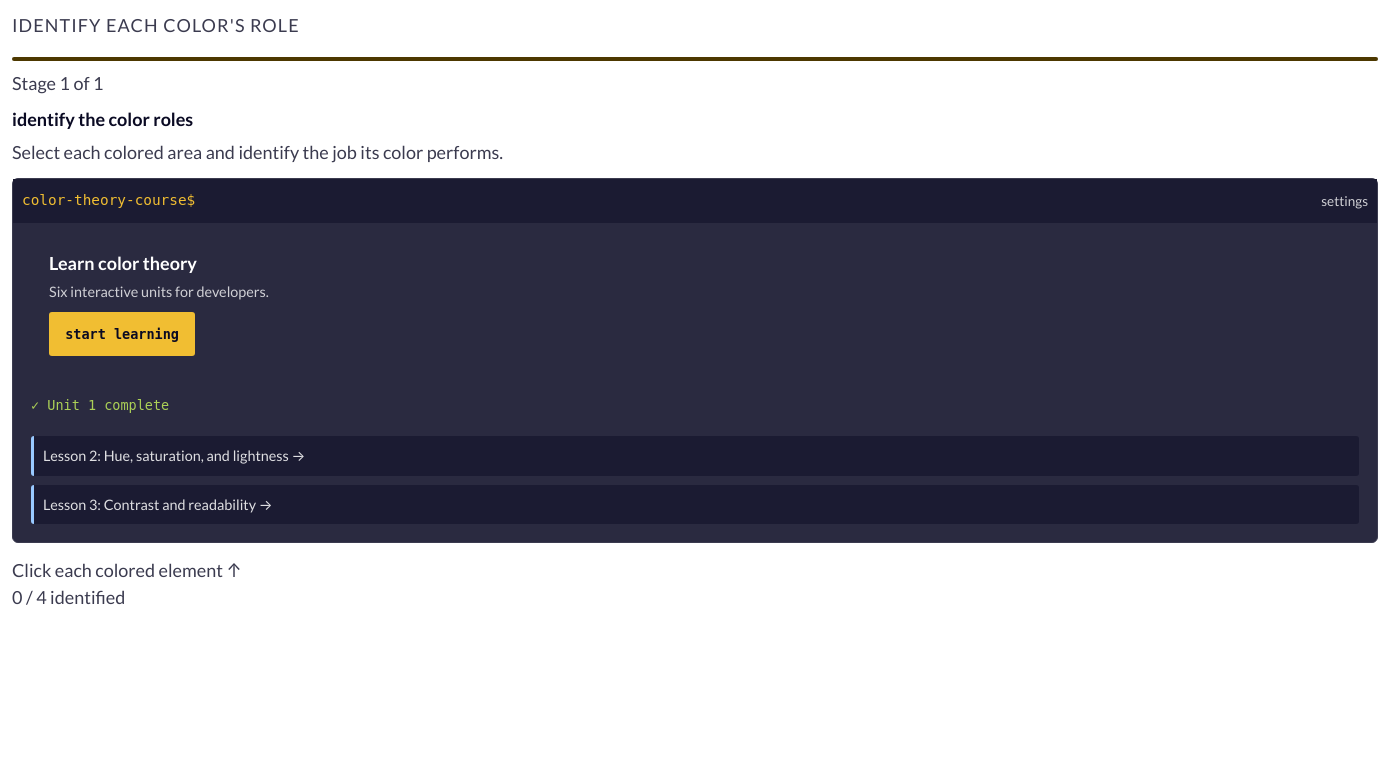
Test: BeforeAfterTool color-role keyboard activation › opens a color-role question with Enter and Space, and prevents Space scrolling
This screenshot has width=1378, height=780.
Press Enter in the button with aria-label "Click to identify what the nav bar color is doing", box [13,179,1377,223]
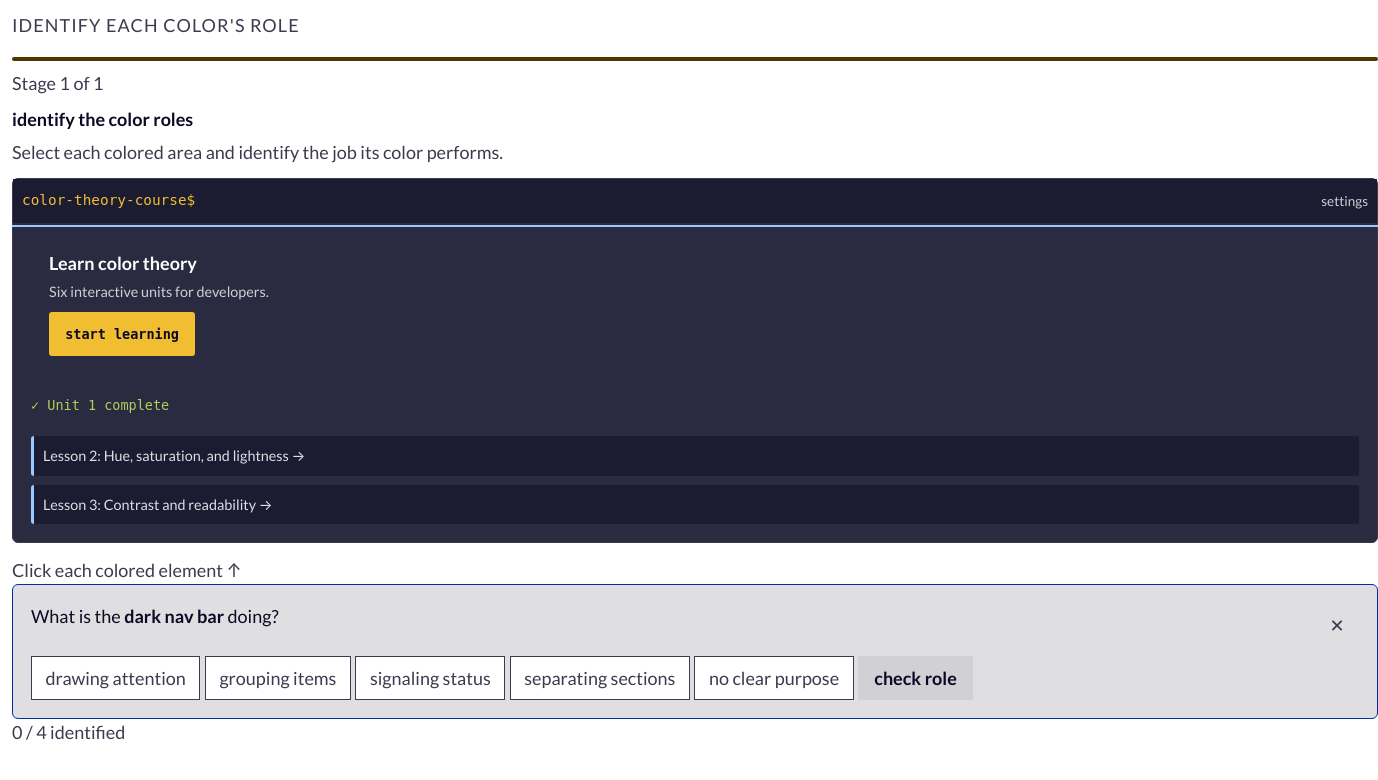
Expected: the text "dark nav bar" is shown, [124,605,224,627]
Click the button named "Close" at coordinates (1337, 625), box [1315,603,1359,647]
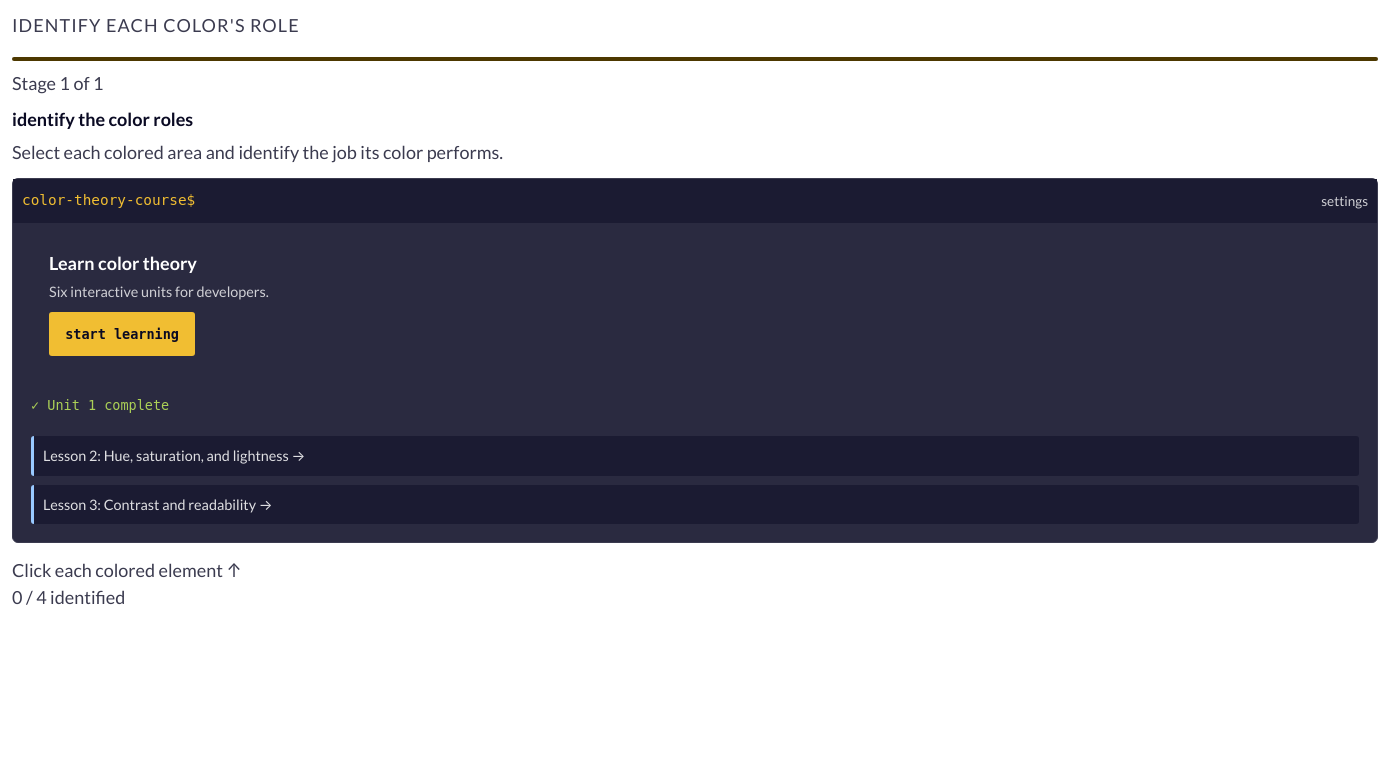
Press Space in the button with aria-label "Click to identify what the nav bar color is doing", box [13,179,1377,223]
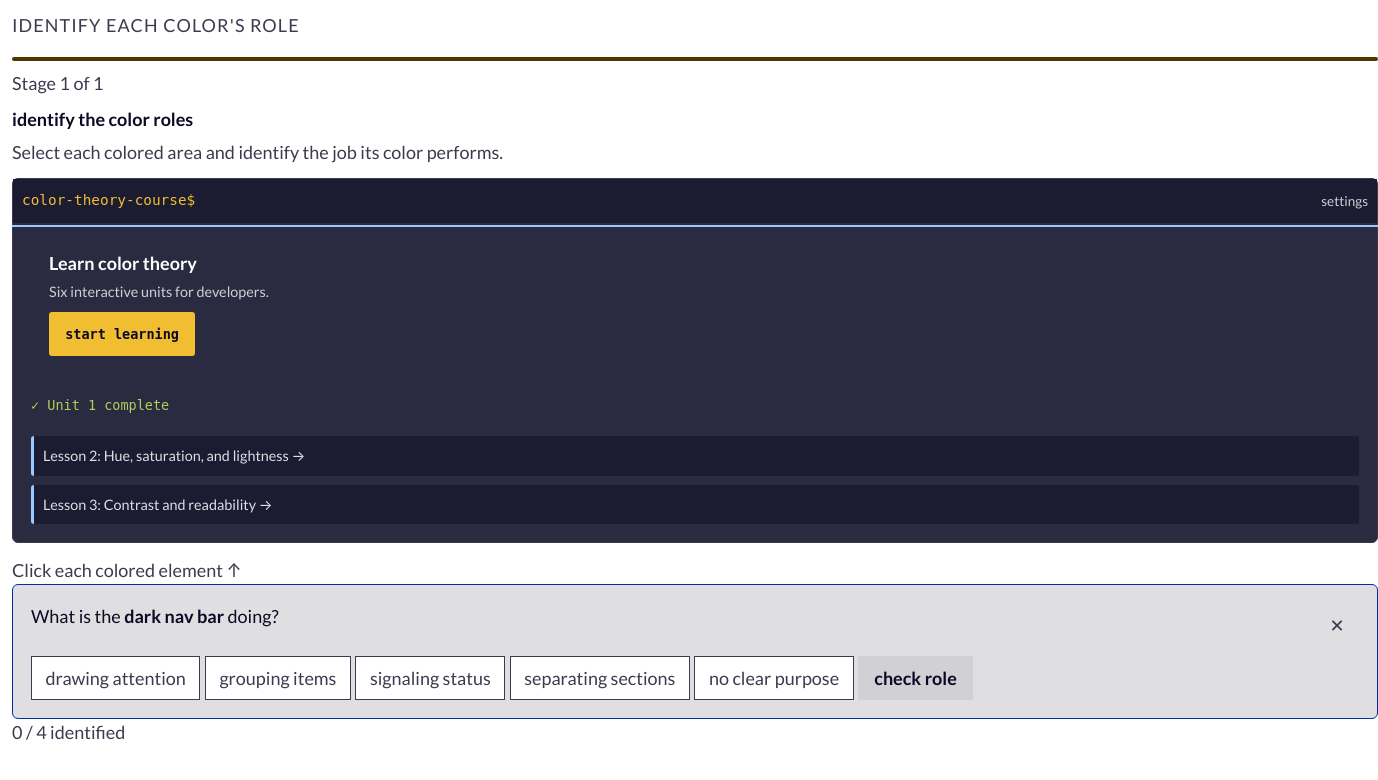
Expected: the text "dark nav bar" is shown, [124,605,224,627]
